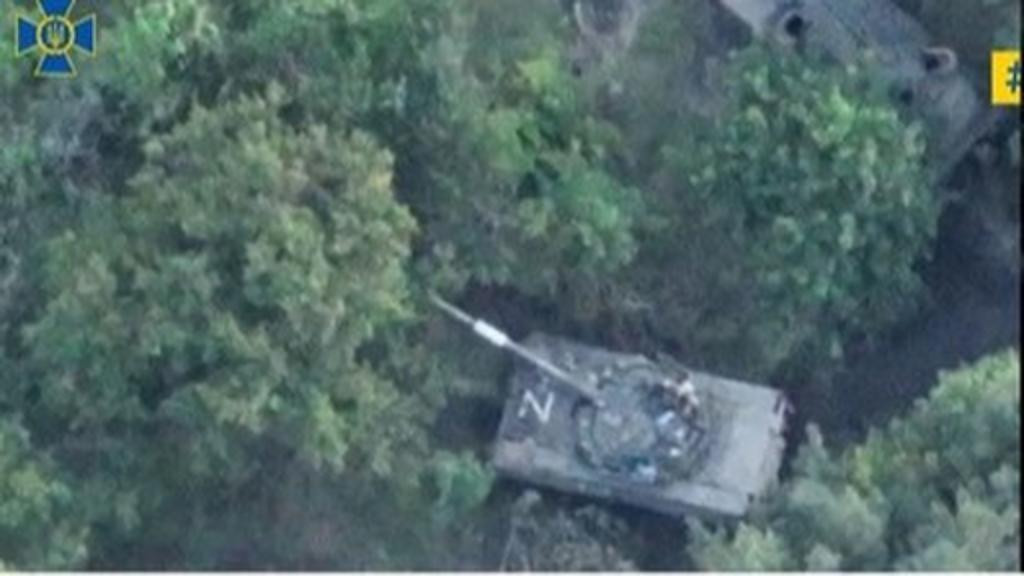TANK: (422, 288, 792, 530)
